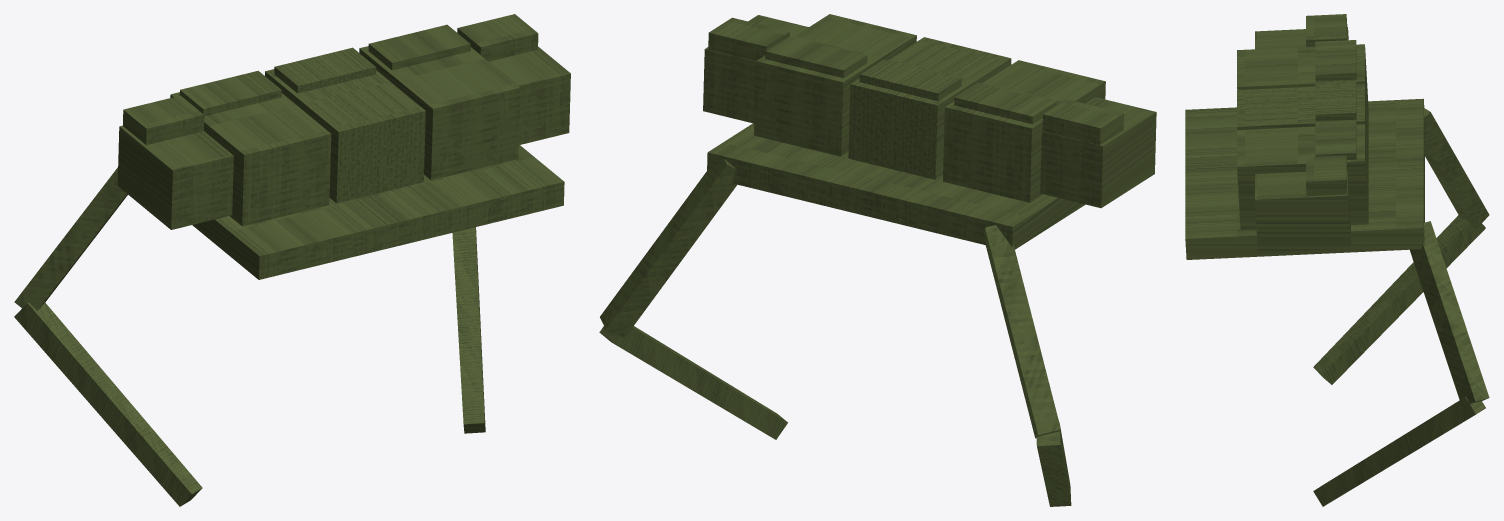
Rendered from chest_rig_ak.glb.
The picture shows the model from 3 angles, left to right: view 1: azimuth 30°, elevation 25°; view 2: azimuth 150°, elevation 25°; view 3: azimuth 270°, elevation 25°; orthographic projection. The views are drawn at different scales.
Visible parts, largest first — view 1: chest_rig_ak; view 2: chest_rig_ak; view 3: chest_rig_ak.
Part boxes in pixels (x1,y1,x2,y2): chest_rig_ak: [14, 14, 570, 506]; chest_rig_ak: [599, 14, 1156, 506]; chest_rig_ak: [1185, 14, 1489, 506].
Bounding box in the file's own units: 0.3336 × 0.2762 × 0.2196.
1 material, 1 textured.
